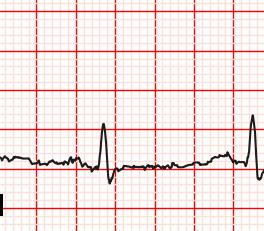ST Depression: (93, 162, 123, 187)
